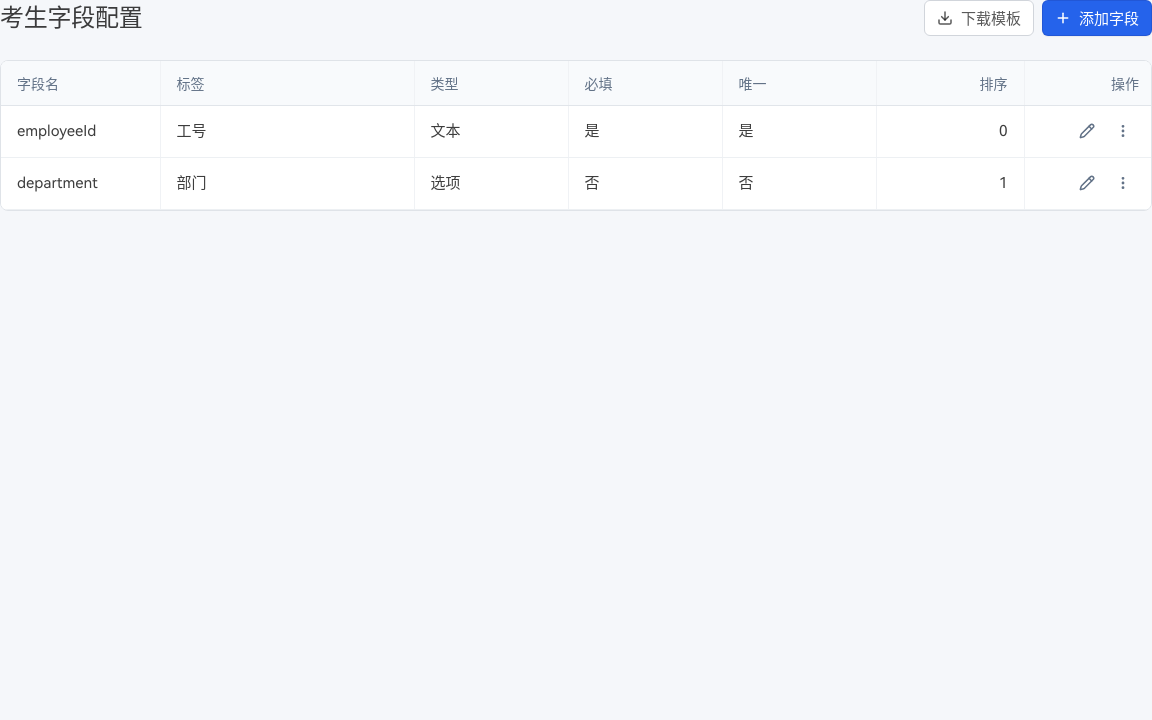
Scenario: CandidateFieldsPage › shows API error without unhandled rejection
Click the button "添加字段".
click(1097, 18)  # box [1042,0,1151,36]
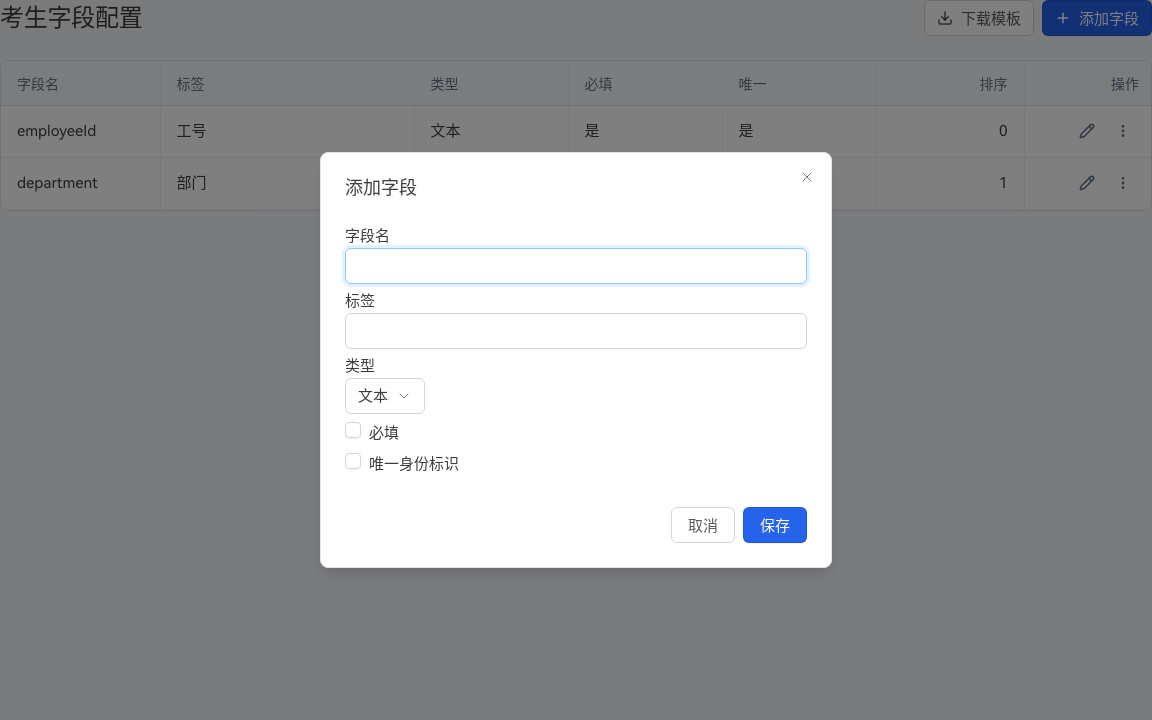
Type "phone" into the 1st field.
click(576, 266); type("phone")  # box [345,248,807,284]
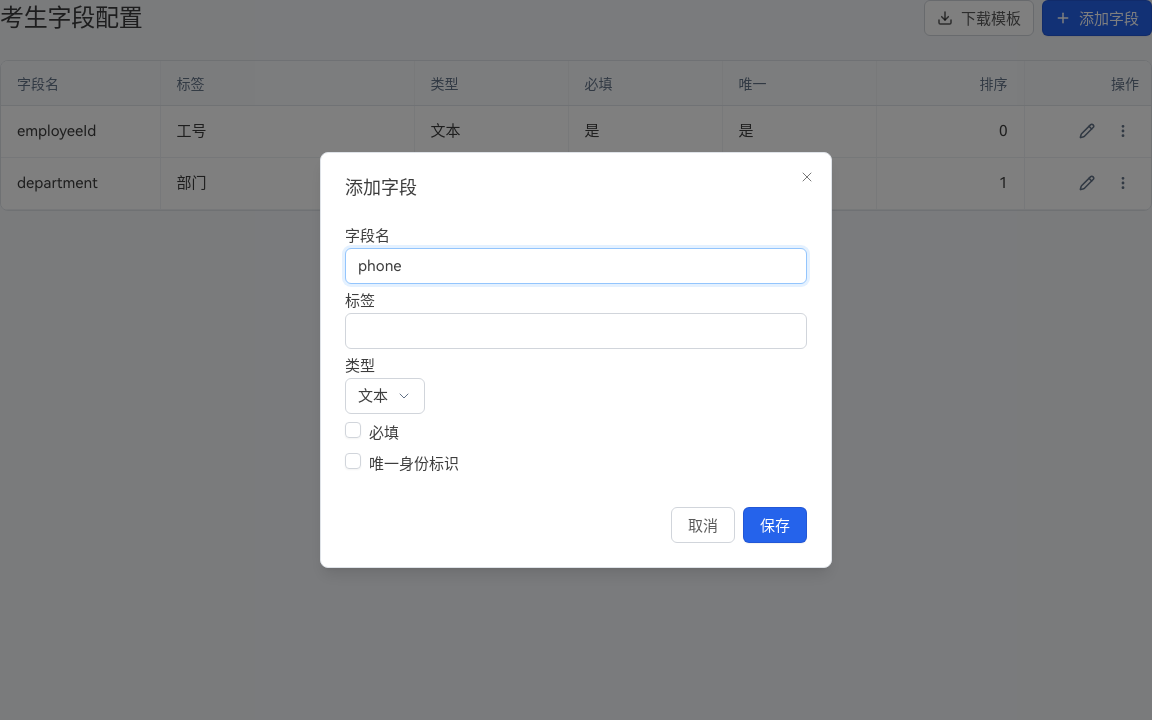
Type "手机号" into the 2nd field.
click(576, 331); type("手机号")  # box [345,313,807,349]
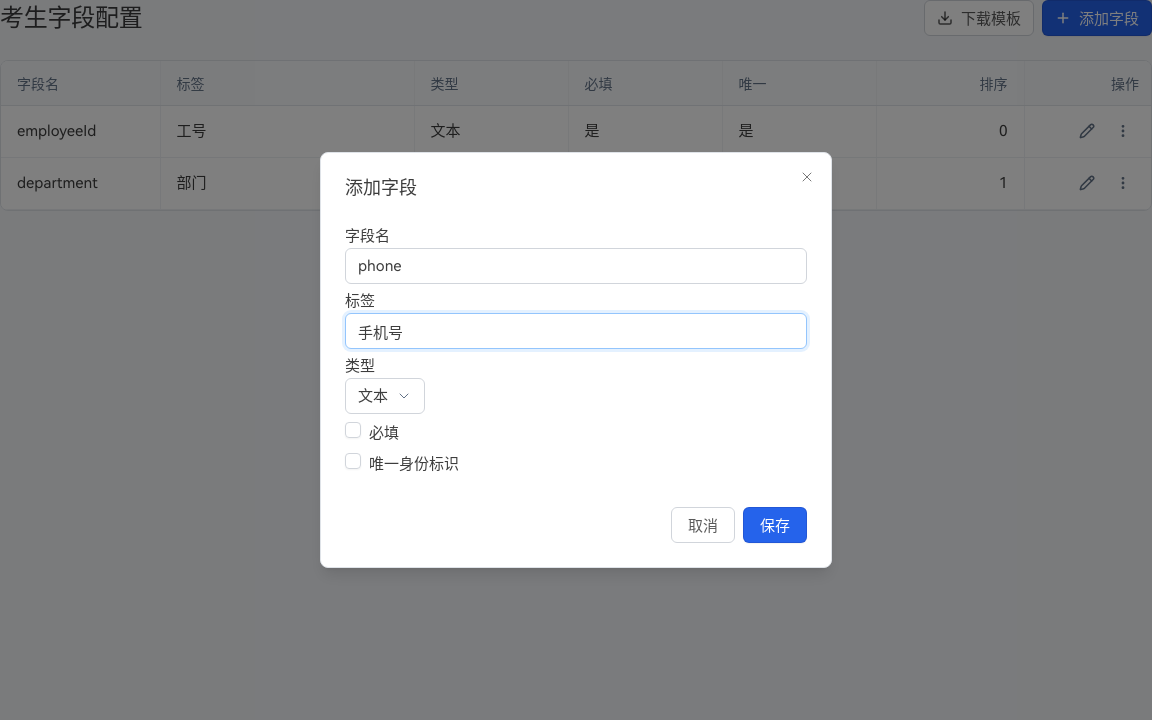
Click the button "保存".
click(775, 525)  # box [743,507,807,543]
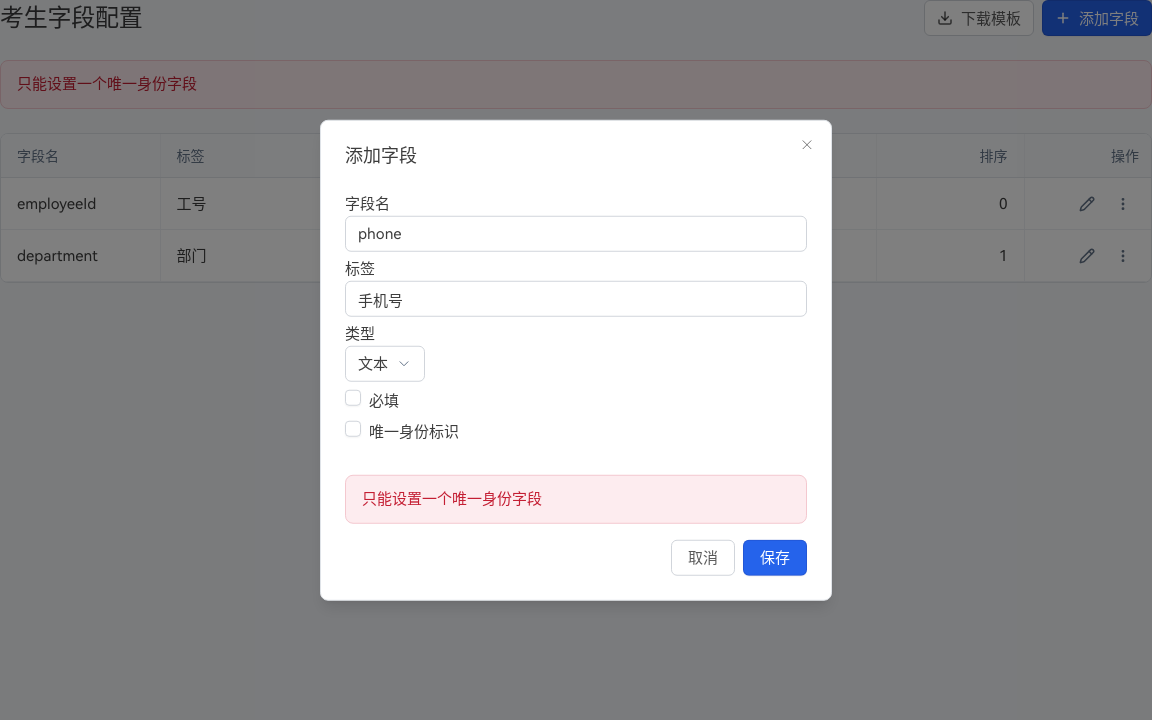
Check: the text "只能设置一个唯一身份字段" is shown, box [345,475,807,523]
